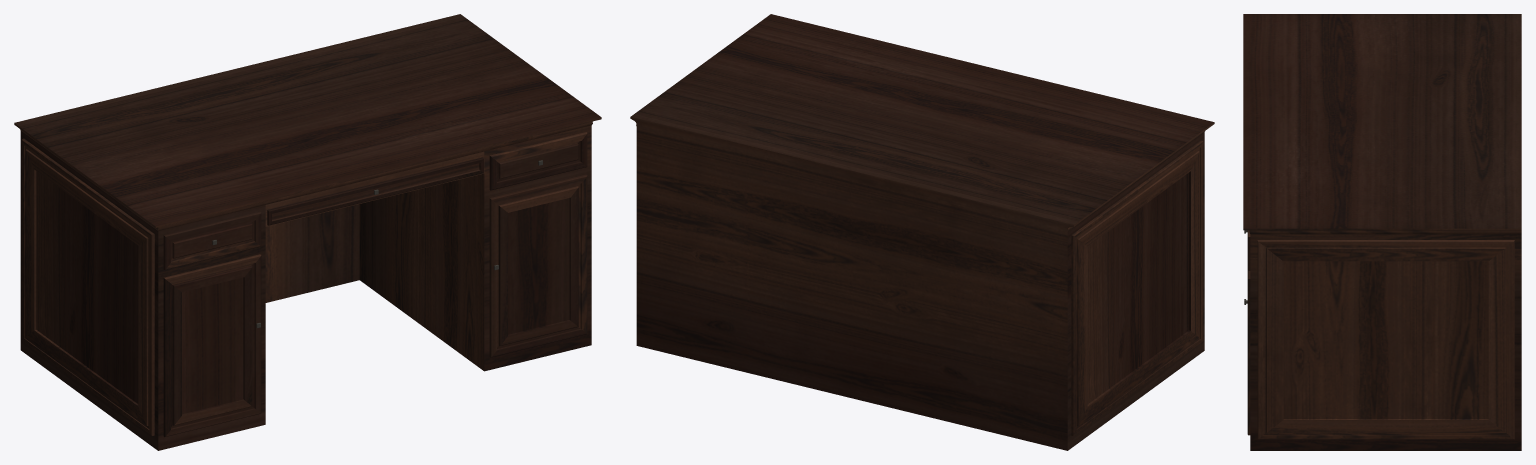
Rendered from desk2.glb.
The picture shows the model from 3 angles, left to right: view 1: azimuth 30°, elevation 25°; view 2: azimuth 150°, elevation 25°; view 3: azimuth 270°, elevation 25°; orthographic projection.
Visible parts, largest first — view 1: Object_2; view 2: Object_2; view 3: Object_2.
Boxes of the visible parts, x1,y1,x2,y2 form: Object_2: (14,14,601,450); Object_2: (630,14,1214,450); Object_2: (1243,14,1521,450).
Size of the model in its own units: 1.16 by 0.5692 by 0.6372.
Materials: 1 (1 with a texture image).
